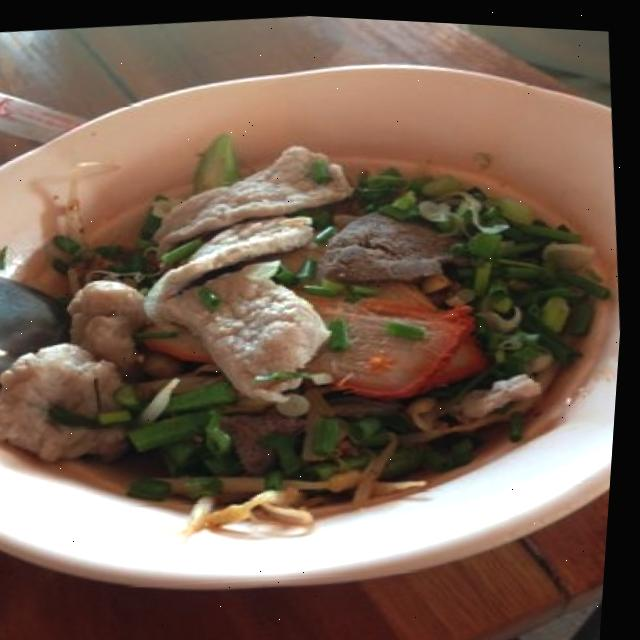猪肉菜式: (0, 8, 640, 582)
